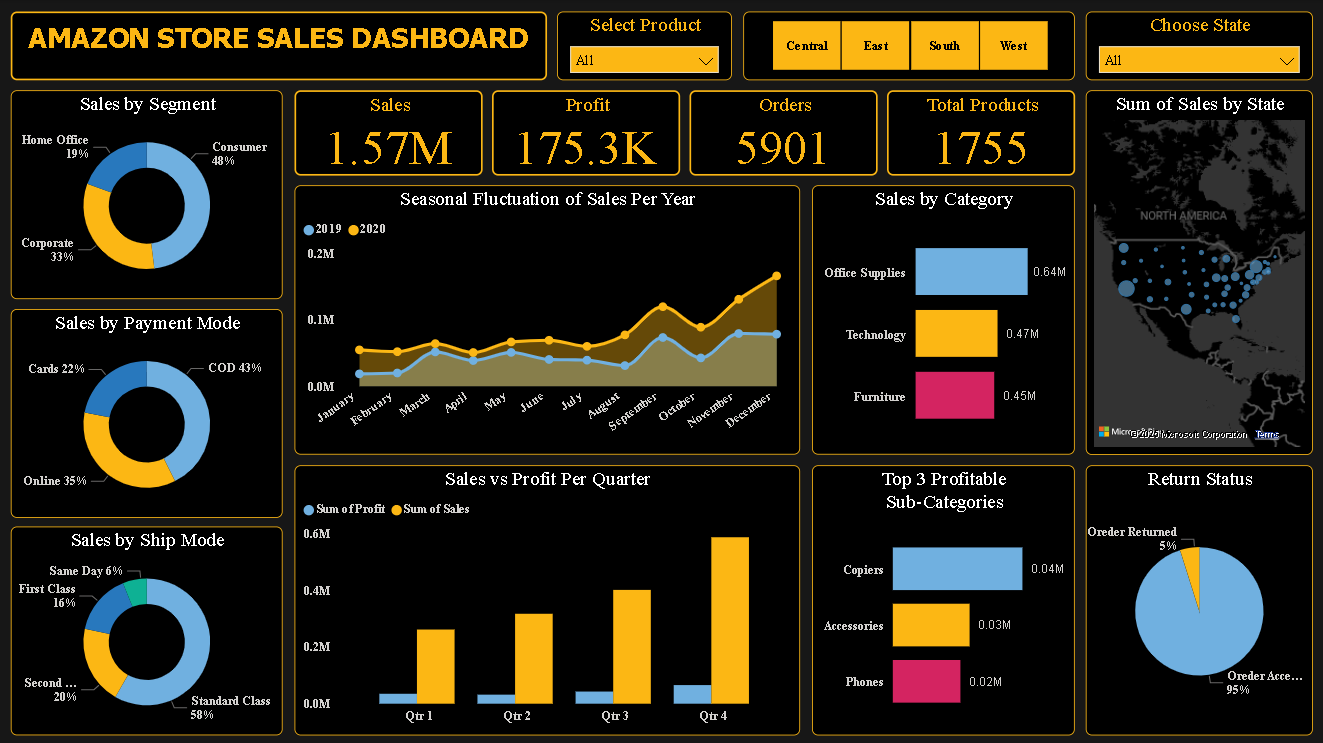

The dashboard page shown, as its layout file describes it:
{"tool":"powerbi","page":{"name":"Page 1","canvas":[1280,720],"ordinal":0},"visuals":[{"type":"donutChart","title":"Sales by Segment","fields":{"Y":["Sum(Amazon Store Sales Data xlsx - Sheet1 (1).Sales)"],"Category":["Amazon Store Sales Data xlsx - Sheet1 (1).Segment"]},"box":[13,88,262.6,202],"z":0},{"type":"donutChart","title":"Sales by Segment","fields":{"Y":["Sum(Amazon Store Sales Data xlsx - Sheet1 (1).Sales)"],"Category":["Amazon Store Sales Data xlsx - Sheet1 (1).Segment"]},"box":[13,298.7,262.6,202],"z":1000},{"type":"donutChart","title":"Sales by Segment","fields":{"Y":["Sum(Amazon Store Sales Data xlsx - Sheet1 (1).Sales)"],"Category":["Amazon Store Sales Data xlsx - Sheet1 (1).Segment"]},"box":[13,509.3,262.6,202],"z":2000},{"type":"areaChart","title":"Seasonal Fluctuation of Sales Per Year","fields":{"Y":["Sum(Amazon Store Sales Data xlsx - Sheet1 (1).Sales)"],"Category":["Amazon Store Sales Data xlsx - Sheet1 (1).Order Date.Variation.Date Hierarchy.Month"],"Series":["Amazon Store Sales Data xlsx - Sheet1 (1).Order Date.Variation.Date Hierarchy.Year"]},"box":[286.9,180,488,260],"z":3000},{"type":"clusteredColumnChart","title":"Sales vs Profit Per Quarter","fields":{"Category":["Amazon Store Sales Data xlsx - Sheet1 (1).Order Date.Variation.Date Hierarchy.Quarter"],"Y":["Sum(Amazon Store Sales Data xlsx - Sheet1 (1).Profit)","Sum(Amazon Store Sales Data xlsx - Sheet1 (1).Sales)"]},"box":[287.1,450.1,487.7,261.1],"z":4000},{"type":"textbox","box":[13.3,12.1,517.6,66.4],"z":5000},{"type":"clusteredBarChart","title":"Sales by Category","fields":{"Y":["Sum(Amazon Store Sales Data xlsx - Sheet1 (1).Sales)"],"Category":["Amazon Store Sales Data xlsx - Sheet1 (1).Category"]},"box":[786.3,180.3,253.9,259.7],"z":6000},{"type":"clusteredBarChart","title":"Top 3 Profitable Sub-Categories","fields":{"Y":["Sum(Amazon Store Sales Data xlsx - Sheet1 (1).Profit)"],"Category":["Amazon Store Sales Data xlsx - Sheet1 (1).Sub-Category"]},"box":[786.3,450.1,253.9,261.1],"z":7000},{"type":"card","title":"Sales","fields":{"Values":["Sum(Amazon Store Sales Data xlsx - Sheet1 (1).Sales)"]},"box":[286.9,88,181.3,82.7],"z":8000},{"type":"card","title":"Profit","fields":{"Values":["Sum(Amazon Store Sales Data xlsx - Sheet1 (1).Profit)"]},"box":[477.5,88,181.3,82.7],"z":9000},{"type":"card","title":"Total Products","fields":{"Values":["Count(Amazon Store Sales Data xlsx - Sheet1 (1).Product ID)"]},"box":[858.9,88,181.3,82.7],"z":10000},{"type":"card","title":"Orders","fields":{"Values":["CountNonNull(Amazon Store Sales Data xlsx - Sheet1 (1).Order ID)"]},"box":[668.2,88,181.3,82.7],"z":11000},{"type":"slicer","fields":{"Values":["Amazon Store Sales Data xlsx - Sheet1 (1).Region"]},"box":[719.9,11.5,320.3,66.4],"z":12000},{"type":"slicer","title":"Choose State","fields":{"Values":["Amazon Store Sales Data xlsx - Sheet1 (1).State"]},"box":[1050.3,11.5,219.3,66.4],"z":13000},{"type":"map","fields":{"Category":["Amazon Store Sales Data xlsx - Sheet1 (1).State"],"Size":["Sum(Amazon Store Sales Data xlsx - Sheet1 (1).Sales)"]},"box":[1050.3,88,219.3,352],"z":14000},{"type":"pieChart","title":"Return Status","fields":{"Category":["sales data.Return Status"],"Y":["CountNonNull(sales data.Order ID)"]},"box":[1050.3,450.1,219.3,261.1],"z":15000},{"type":"slicer","title":"Select Product","fields":{"Values":["sales data.Product Name"]},"box":[541,11.5,168.8,66.4],"z":16000}]}

Visuals, with their boxes in screenshot pixels (x1, y1, x2, y2), scaled from the page's 1280x720 canvas onto the 1323x743 screenshot:
"Sales by Segment" donutChart: BBox(13, 91, 285, 299)
"Sales by Segment" donutChart: BBox(13, 308, 285, 517)
"Sales by Segment" donutChart: BBox(13, 526, 285, 734)
"Seasonal Fluctuation of Sales Per Year" areaChart: BBox(297, 186, 801, 454)
"Sales vs Profit Per Quarter" clusteredColumnChart: BBox(297, 464, 801, 734)
textbox: BBox(14, 12, 549, 81)
"Sales by Category" clusteredBarChart: BBox(813, 186, 1075, 454)
"Top 3 Profitable Sub-Categories" clusteredBarChart: BBox(813, 464, 1075, 734)
"Sales" card: BBox(297, 91, 484, 176)
"Profit" card: BBox(494, 91, 681, 176)
"Total Products" card: BBox(888, 91, 1075, 176)
"Orders" card: BBox(691, 91, 878, 176)
slicer - Amazon Store Sales Data xlsx - Sheet1 (1).Region: BBox(744, 12, 1075, 80)
"Choose State" slicer: BBox(1086, 12, 1312, 80)
map - Amazon Store Sales Data xlsx - Sheet1 (1).State x Sum(Amazon Store Sales Data xlsx - Sheet1 (1).Sales): BBox(1086, 91, 1312, 454)
"Return Status" pieChart: BBox(1086, 464, 1312, 734)
"Select Product" slicer: BBox(559, 12, 734, 80)
